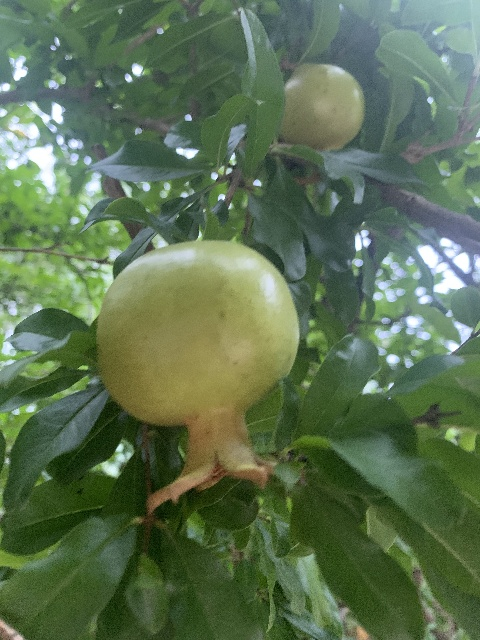mid-growth: (96, 239, 300, 515), (279, 63, 365, 151)
